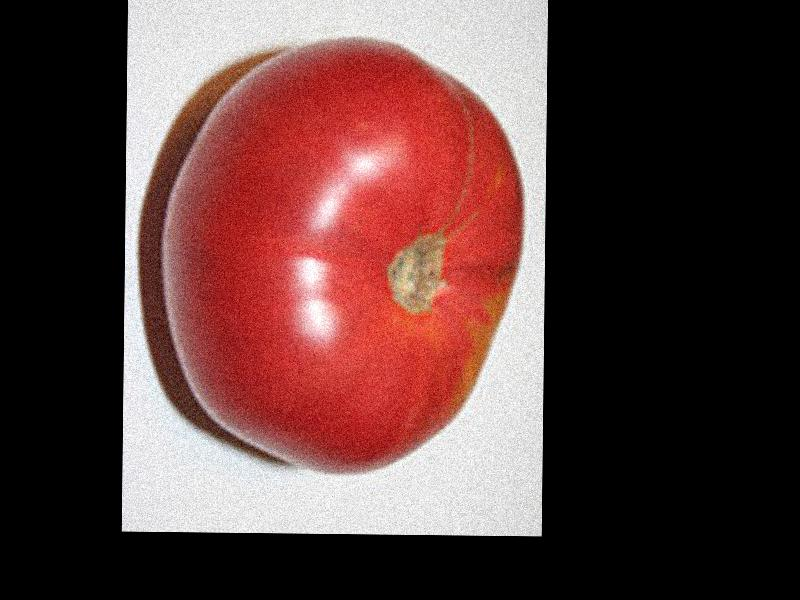Tomato: (169, 33, 530, 479)
